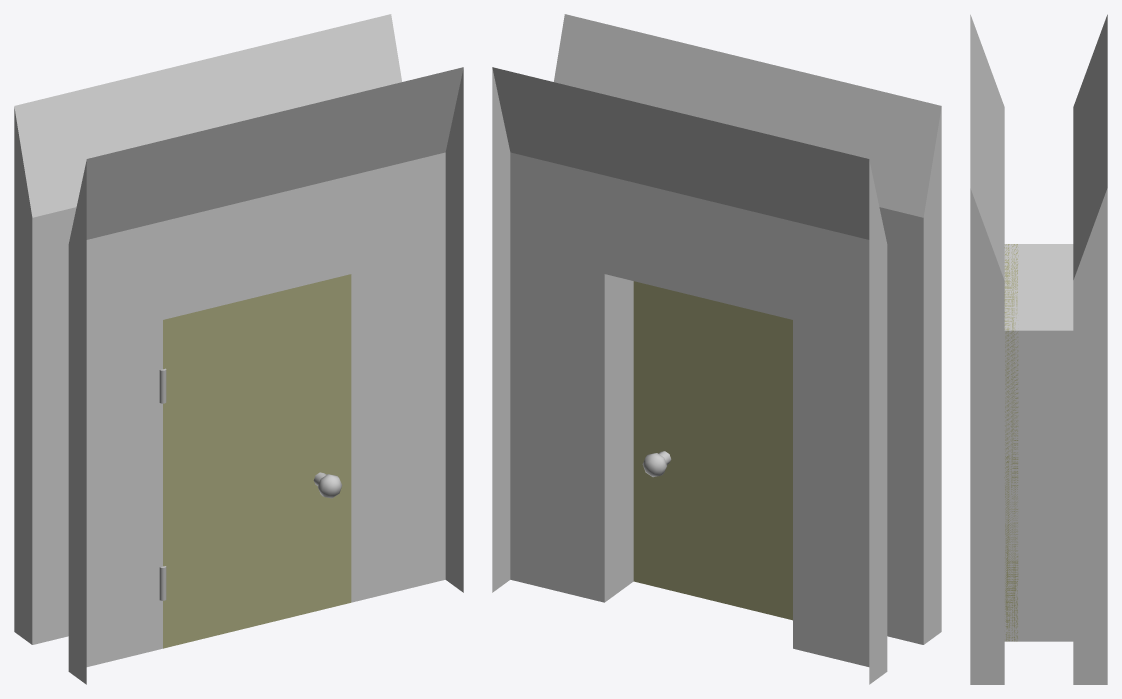
The model's file is Door.fbx.
3 views of the same model, side by side, from view 1: azimuth 30°, elevation 25°; view 2: azimuth 150°, elevation 25°; view 3: azimuth 270°, elevation 25° (orthographic). The views are drawn at different scales.
Parts seen in each view (by area): view 1: Door_Frame_01, Door_01; view 2: Door_Frame_01, Door_01; view 3: Door_Frame_01, Door_01.
Part boxes in pixels (left/top/right/bottom): Door_Frame_01: left=14, top=14, right=463, bottom=684; Door_01: left=159, top=274, right=351, bottom=648; Door_Frame_01: left=492, top=14, right=941, bottom=684; Door_01: left=633, top=281, right=792, bottom=620; Door_Frame_01: left=970, top=14, right=1107, bottom=684; Door_01: left=1004, top=244, right=1018, bottom=641.
Bounding box in the file's own units: 3 × 4 × 1.
